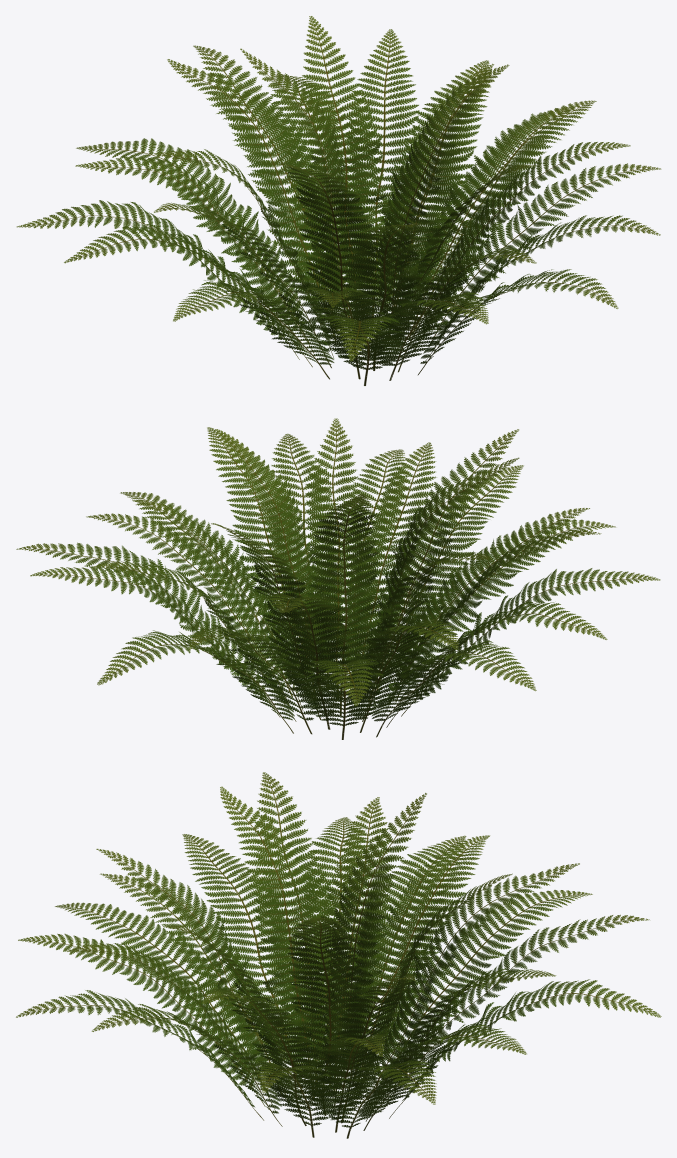
The model's file is fern.glb.
The picture shows the model from 3 angles, top to bottom: view 1: azimuth 30°, elevation 25°; view 2: azimuth 150°, elevation 25°; view 3: azimuth 270°, elevation 25°; orthographic projection. The views are drawn at different scales.
Bounding box in the file's own units: 1.3 × 0.6264 × 1.28.
Materials: 1 (1 with a texture image).
